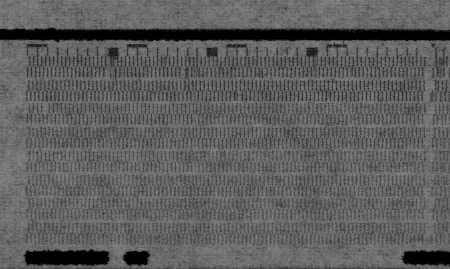Broken hole: (40, 101, 52, 114)
Oblique printing: (431, 54, 446, 105), (179, 66, 200, 92), (103, 55, 120, 82), (310, 54, 323, 79), (233, 90, 246, 103)
